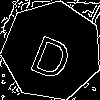D: (27, 25, 79, 82)
